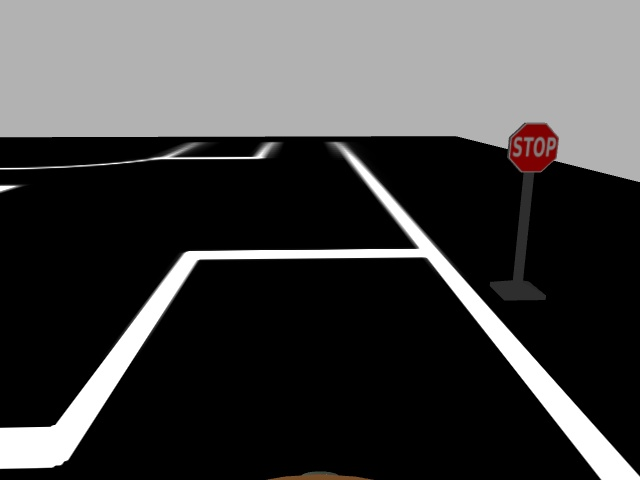stop: (504, 120, 560, 174)
